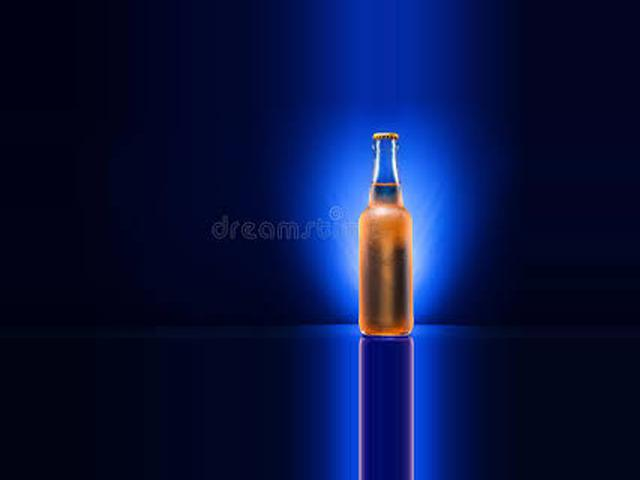beer: (357, 132, 416, 335)
